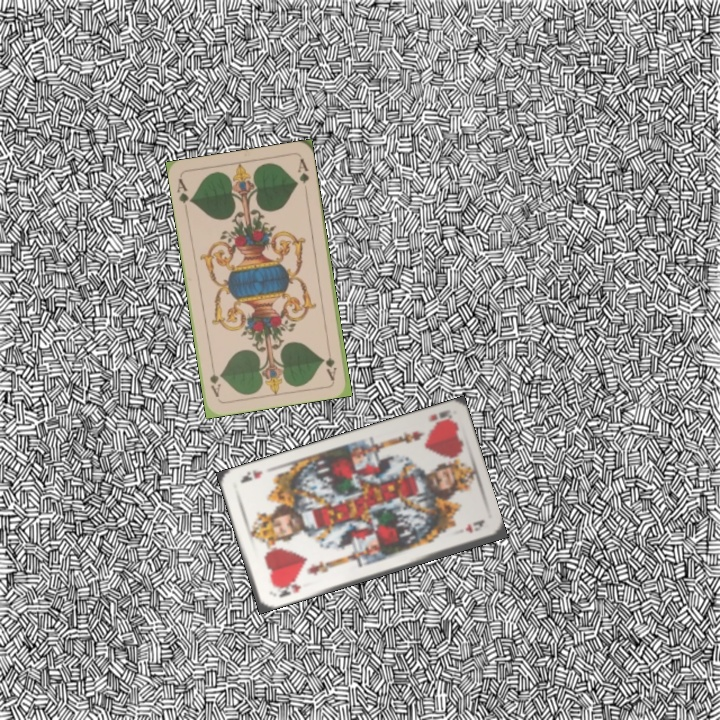GA: (173, 174, 195, 215), (322, 342, 339, 383)
HK: (269, 577, 304, 600), (425, 406, 455, 429)
